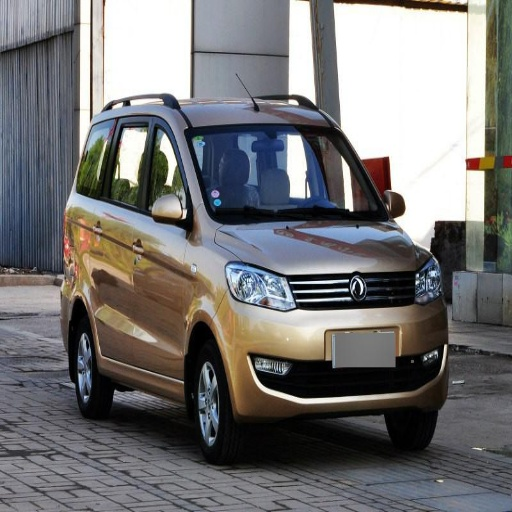front_bumper: (217, 270, 444, 416)
front_left_light: (414, 260, 448, 303)
front_right_door: (112, 117, 189, 376)
front_right_light: (226, 261, 297, 311)
hood: (218, 219, 427, 278)
